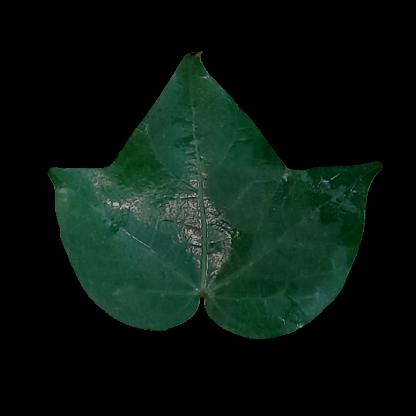healthy: (74, 181, 208, 275), (212, 185, 361, 256), (143, 124, 251, 183), (210, 258, 314, 318), (105, 273, 183, 313), (162, 80, 220, 118)
